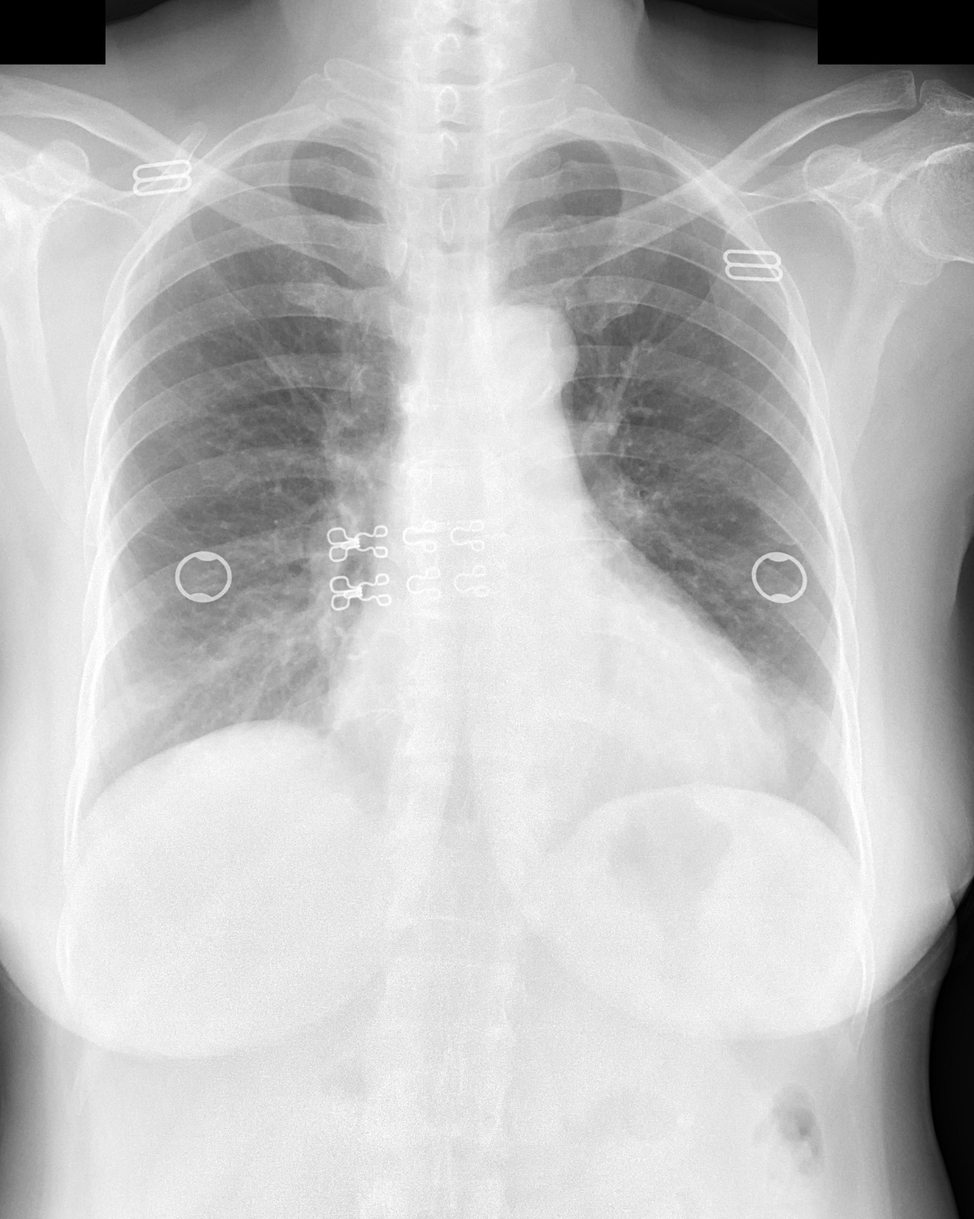Aortic enlargement: (459, 300, 579, 416)
Cardiomegaly: (322, 634, 791, 813)
